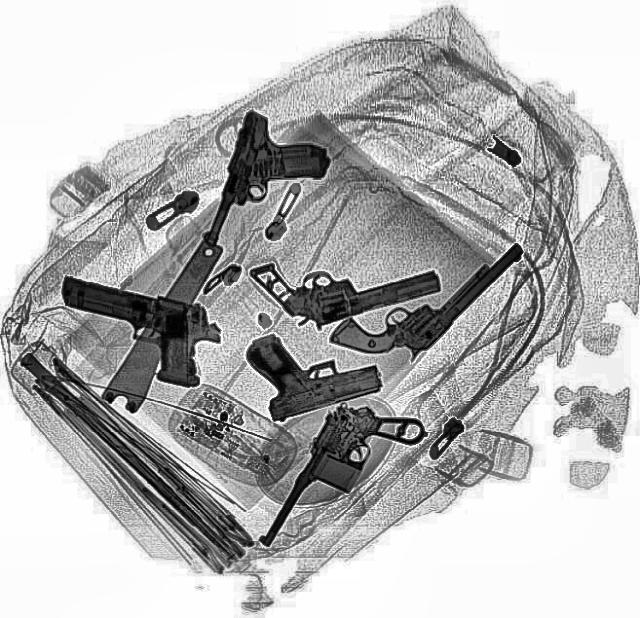Gun: (323, 198, 524, 390), (254, 386, 428, 580), (243, 222, 442, 337), (41, 271, 229, 392), (200, 108, 338, 266), (238, 310, 386, 424)
